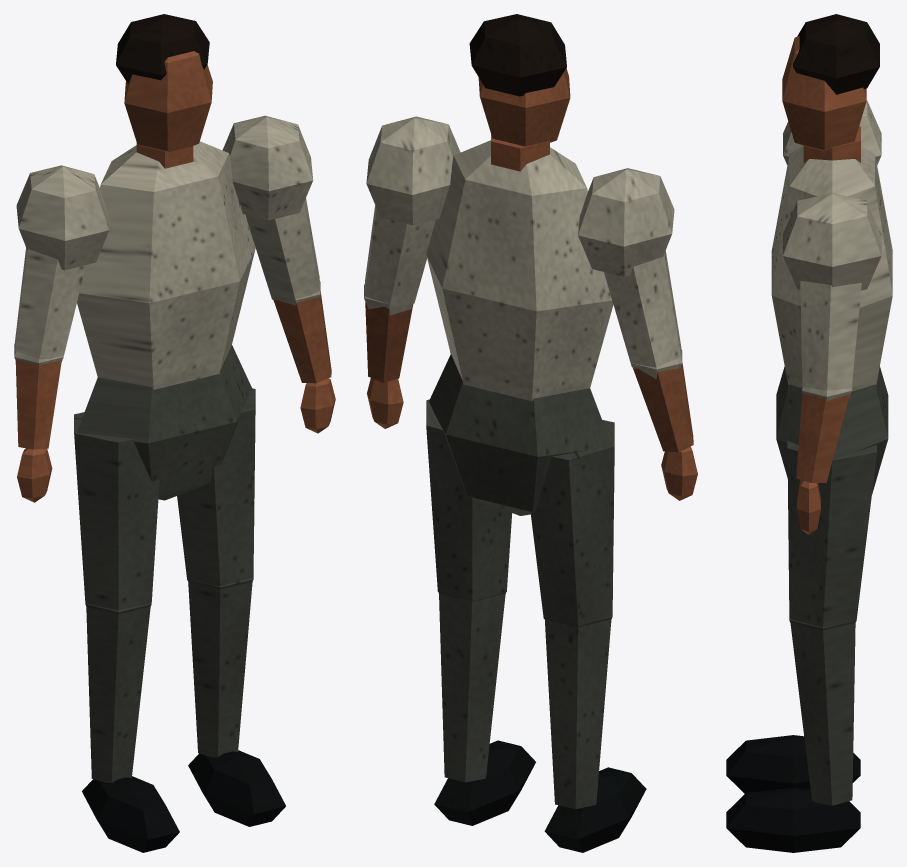
Rendered from PROP-36E34792A832_lod2.glb.
The picture shows the model from 3 angles, left to right: view 1: azimuth 30°, elevation 25°; view 2: azimuth 150°, elevation 25°; view 3: azimuth 270°, elevation 25°; orthographic projection. The views are drawn at different scales.
Parts seen in each view (by area): view 1: torso.046, thigh.045, calf.045, shoulder.046, pelvis.045, upper_arm.046, shoe.045, forearm.046, head.045, hair_cap.045, hand.045, neck.045; view 2: torso.046, thigh.045, calf.045, shoulder.046, pelvis.045, upper_arm.046, shoe.045, hair_cap.045, forearm.046, head.045, hand.045, neck.045 (+1 smaller); view 3: thigh.045, torso.046, shoe.045, calf.045, shoulder.046, upper_arm.046, hair_cap.045, head.045, pelvis.045, forearm.046, hand.045, neck.045 (+1 smaller).
Boxes of the visible parts, x1=… form: torso.046: x1=77, y1=141, x2=255, y2=389; thigh.045: x1=74, y1=388, x2=255, y2=610; calf.045: x1=86, y1=582, x2=252, y2=782; shoulder.046: x1=16, y1=115, x2=313, y2=270; pelvis.045: x1=77, y1=345, x2=252, y2=500; upper_arm.046: x1=14, y1=198, x2=319, y2=359; shoe.045: x1=82, y1=750, x2=285, y2=852; forearm.046: x1=15, y1=292, x2=331, y2=449; head.045: x1=124, y1=51, x2=212, y2=152; hair_cap.045: x1=116, y1=14, x2=209, y2=83; hand.045: x1=17, y1=378, x2=335, y2=502; neck.045: x1=136, y1=143, x2=193, y2=168; torso.046: x1=426, y1=140, x2=613, y2=401; thigh.045: x1=426, y1=399, x2=614, y2=626; calf.045: x1=439, y1=593, x2=611, y2=809; shoulder.046: x1=366, y1=116, x2=674, y2=276; pelvis.045: x1=429, y1=354, x2=611, y2=515; upper_arm.046: x1=364, y1=205, x2=681, y2=367; shoe.045: x1=434, y1=740, x2=646, y2=852; hair_cap.045: x1=469, y1=14, x2=566, y2=96; forearm.046: x1=365, y1=302, x2=693, y2=452; head.045: x1=478, y1=68, x2=570, y2=146; hand.045: x1=367, y1=378, x2=697, y2=500; neck.045: x1=491, y1=134, x2=549, y2=171; thigh.045: x1=787, y1=440, x2=876, y2=627; torso.046: x1=771, y1=146, x2=892, y2=391; shoe.045: x1=726, y1=735, x2=860, y2=852; calf.045: x1=790, y1=623, x2=855, y2=805; shoulder.046: x1=783, y1=100, x2=881, y2=290; upper_arm.046: x1=800, y1=280, x2=861, y2=390; hair_cap.045: x1=793, y1=14, x2=879, y2=94; head.045: x1=782, y1=36, x2=866, y2=150; pelvis.045: x1=776, y1=366, x2=888, y2=494; forearm.046: x1=796, y1=392, x2=849, y2=482; hand.045: x1=797, y1=479, x2=820, y2=534; neck.045: x1=803, y1=126, x2=860, y2=162.
Bounding box in the file's own units: 0.72 × 1.71 × 0.3218.
5 materials, 5 textured.
